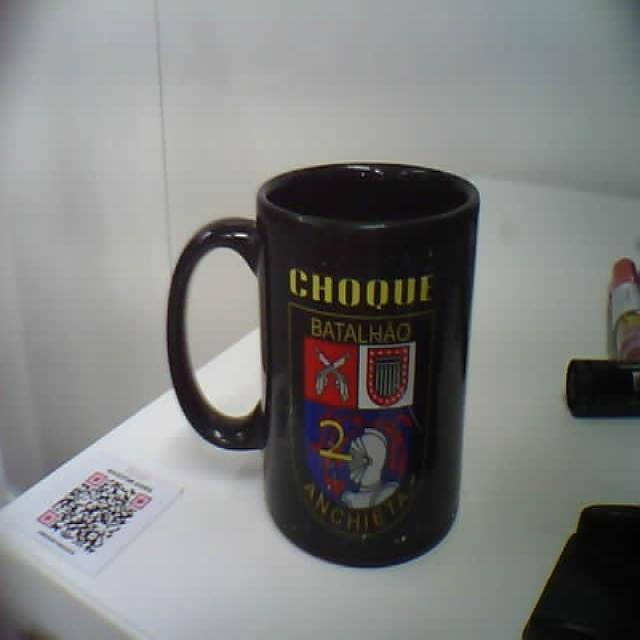caneca: (168, 163, 479, 564)
